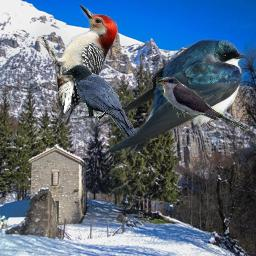Crow: (60, 64, 137, 139)
Cuckoo: (156, 77, 247, 131)
Swallow: (83, 38, 246, 156)
Woodpecker: (33, 1, 121, 131)
